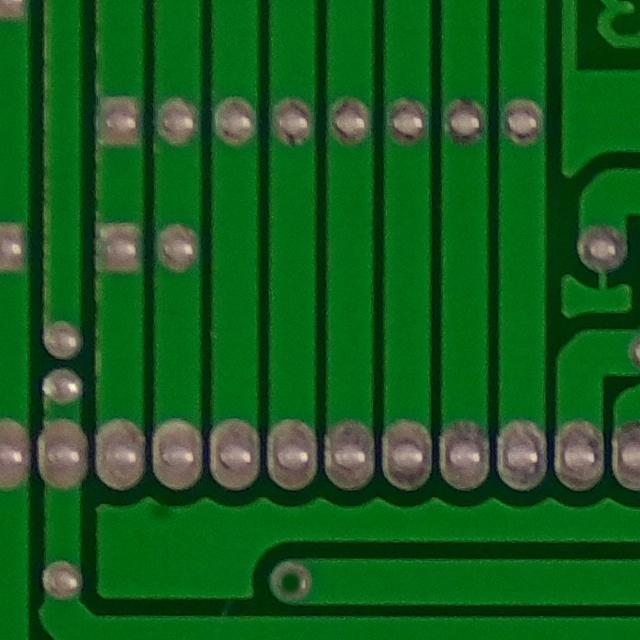missing_hole: (264, 553, 315, 611)
